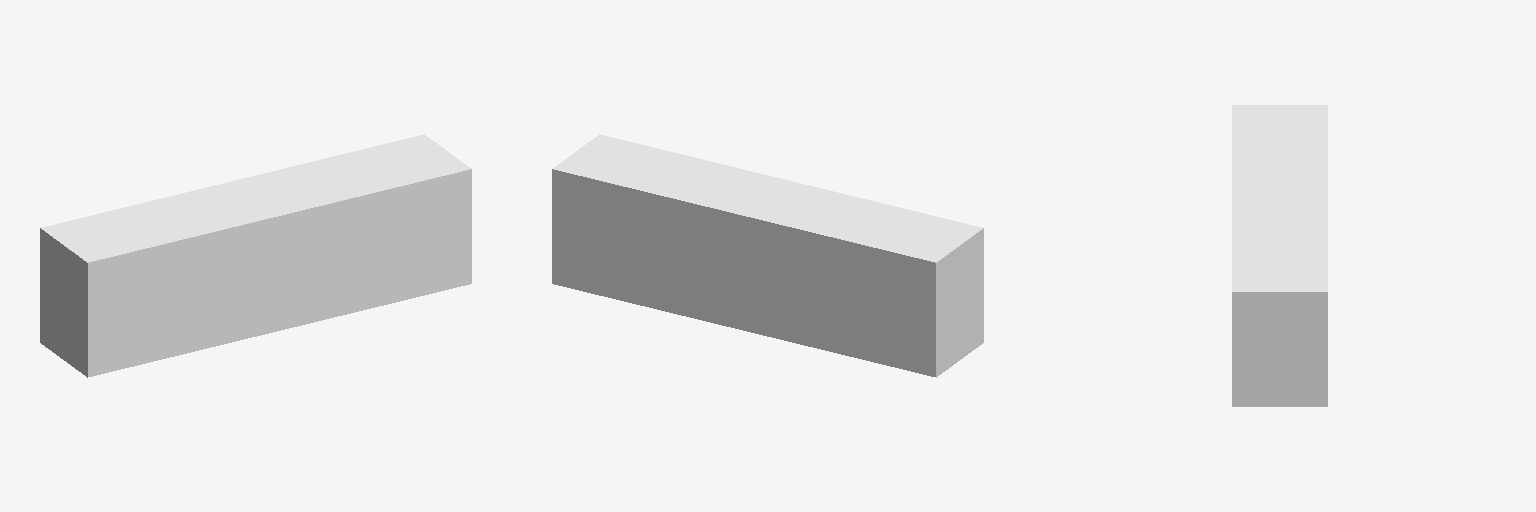
File: armyguy1rightarm.obj
3 renders of one model, left to right at view 1: azimuth 30°, elevation 25°; view 2: azimuth 150°, elevation 25°; view 3: azimuth 270°, elevation 25°, orthographic.
Parts seen in each view (by area): view 1: armyguy1rightarm; view 2: armyguy1rightarm; view 3: armyguy1rightarm.
Boxes of the visible parts, box(x1,y1,x2,y2) form: armyguy1rightarm: box(40, 134, 471, 377); armyguy1rightarm: box(552, 134, 983, 377); armyguy1rightarm: box(1232, 105, 1327, 406).
Size of the model in its own units: 14 by 4 by 3.